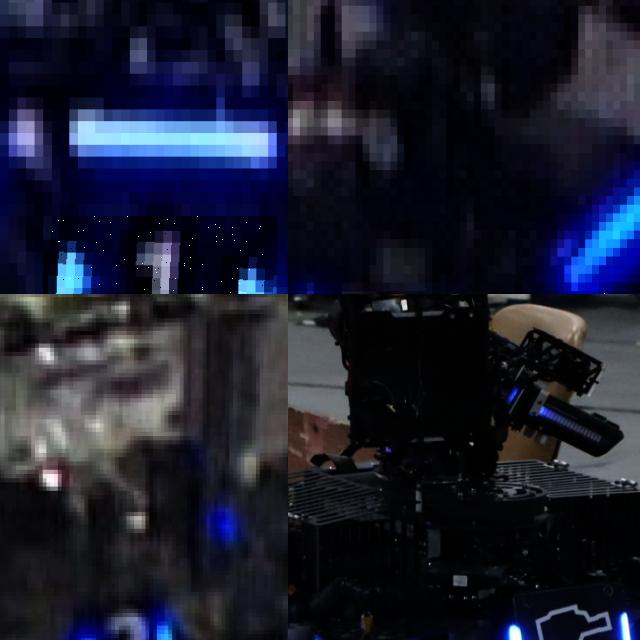B1: (43, 216, 276, 294)
B2: (73, 604, 172, 640)
Bs: (506, 597, 638, 640)
